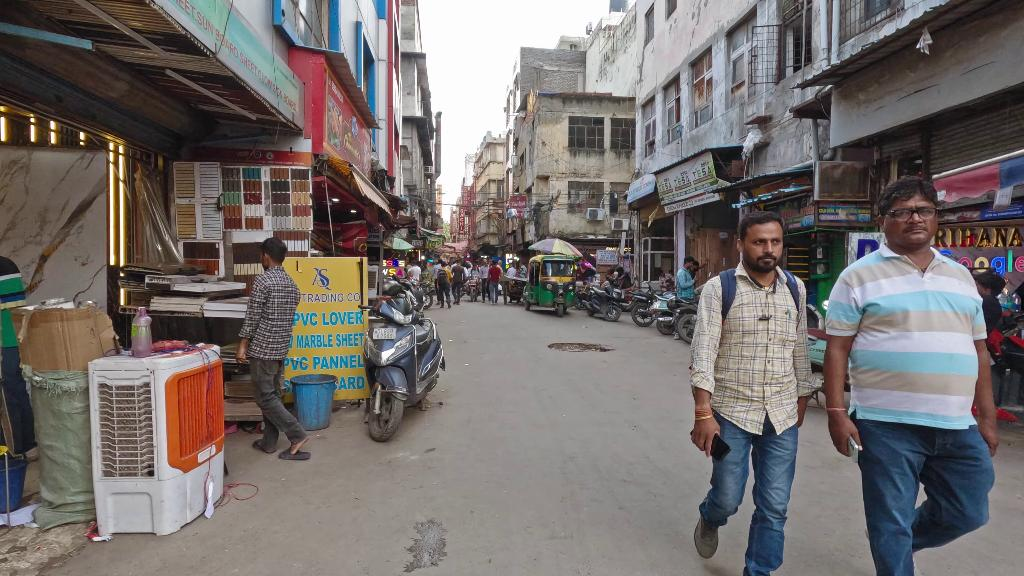dustbin: (292, 369, 339, 430)
